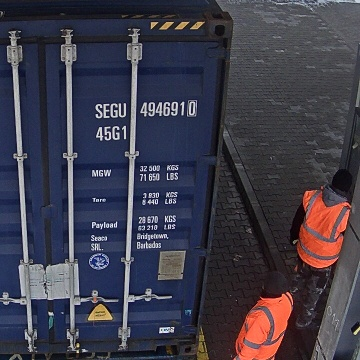serial_id: (95, 101, 195, 117)
